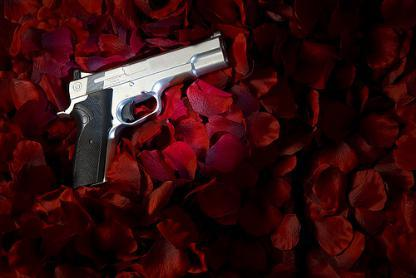pistol: (55, 28, 229, 188)
